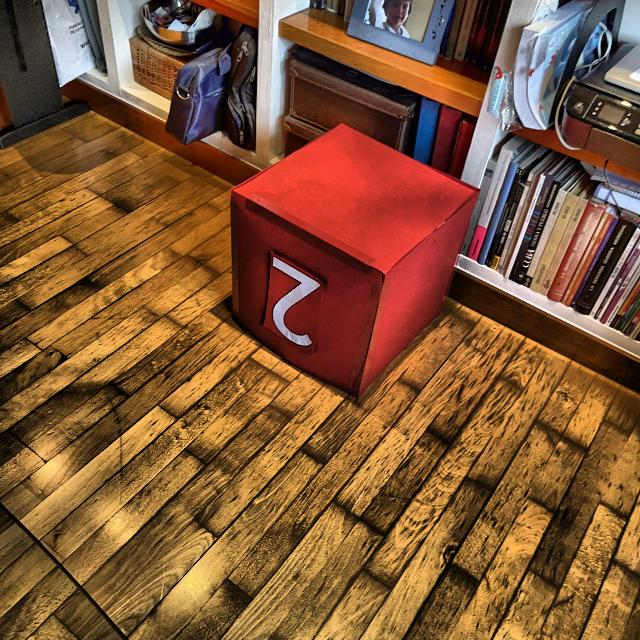red box: (233, 123, 479, 401)
two: (272, 256, 324, 347)
